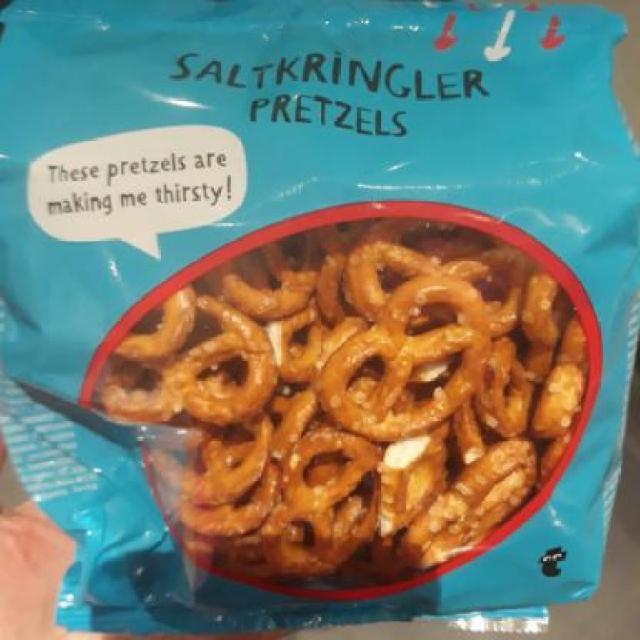Salatini: (6, 12, 628, 618)
